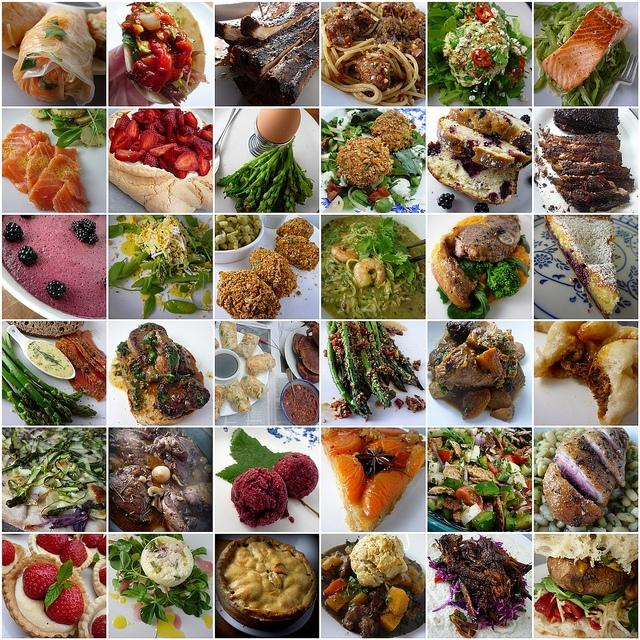asparagus: (255, 136, 294, 212), (18, 450, 62, 498), (2, 452, 37, 473), (268, 154, 281, 191), (18, 390, 41, 410), (282, 180, 296, 212), (364, 368, 376, 396), (44, 450, 52, 474)
blackberry: (46, 280, 67, 300), (509, 132, 532, 150), (18, 246, 38, 266), (4, 222, 24, 242), (438, 192, 455, 208), (81, 218, 96, 232), (75, 228, 88, 242), (474, 202, 489, 212), (72, 220, 84, 232), (89, 232, 99, 244), (520, 114, 530, 124)
strawberry: (44, 580, 86, 624), (22, 564, 58, 602), (60, 540, 87, 566), (36, 534, 68, 555), (110, 130, 132, 154), (176, 130, 198, 154), (174, 151, 200, 171), (148, 142, 178, 158), (114, 149, 146, 162), (192, 137, 212, 157), (164, 145, 184, 165), (140, 130, 158, 152), (91, 614, 107, 638), (124, 120, 140, 142), (2, 539, 15, 566), (82, 534, 103, 548), (114, 114, 130, 132), (132, 112, 154, 124), (144, 152, 160, 168), (184, 112, 198, 128), (198, 130, 212, 144), (154, 122, 167, 135), (98, 535, 106, 556), (146, 108, 160, 120), (176, 110, 185, 128), (159, 158, 170, 172), (166, 119, 172, 142), (100, 568, 106, 586), (153, 116, 161, 125)
